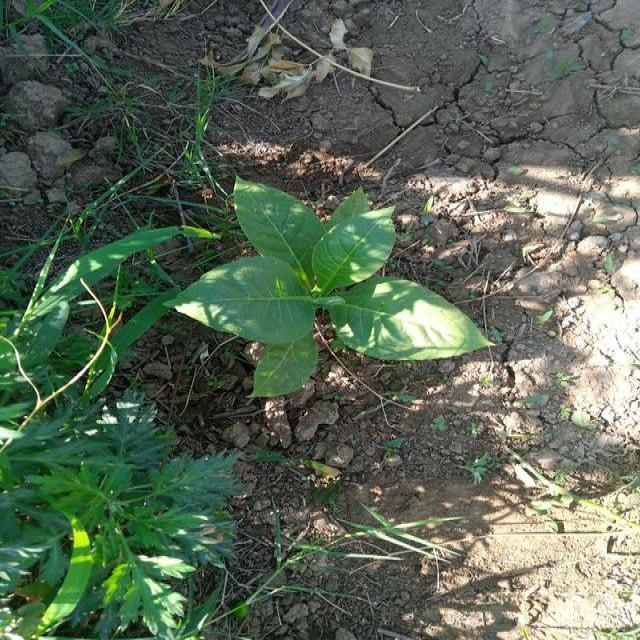crop: (198, 156, 472, 411)
